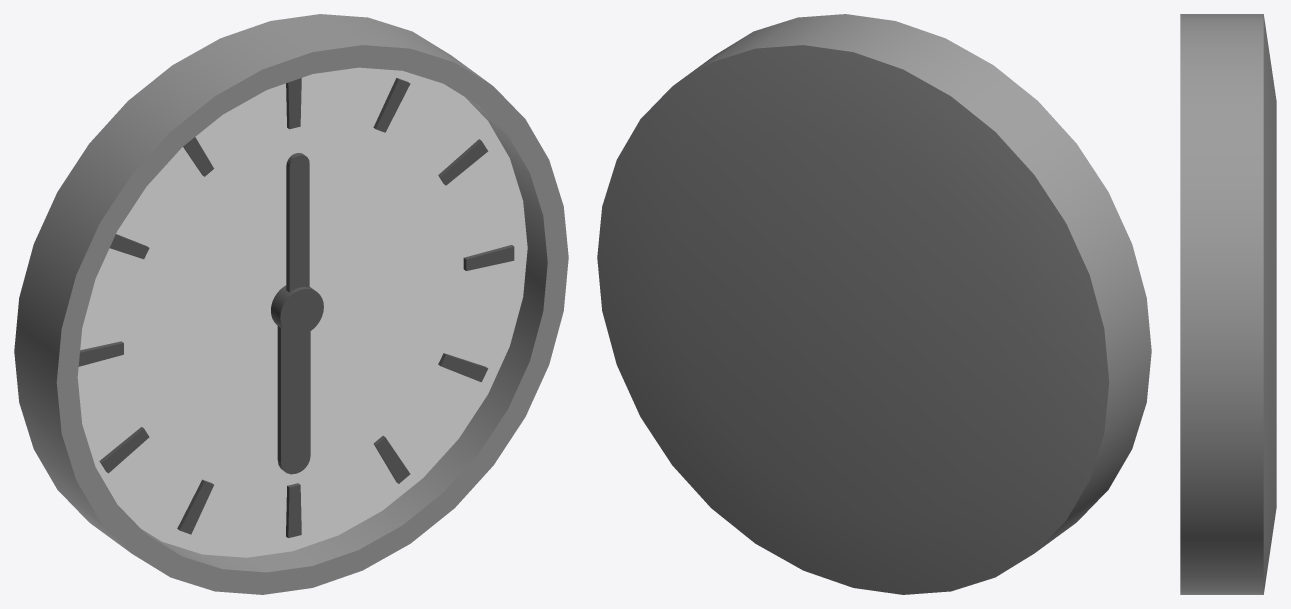
Rendered from six_oclock.glb.
3 views of the same model, side by side, from view 1: azimuth 30°, elevation 25°; view 2: azimuth 150°, elevation 25°; view 3: azimuth 270°, elevation 25° (orthographic).
Parts seen in each view (by area): view 1: Circle.2465, Circle.2466, Plane.274, Plane.275; view 2: Circle.2465; view 3: Circle.2465.
Boxes of the visible parts, x1,y1,x2,y2 form: Circle.2465: (14,14,568,594); Circle.2466: (78,78,514,537); Plane.274: (277,326,310,474); Plane.275: (286,153,309,292); Circle.2465: (597,14,1151,594); Circle.2465: (1180,14,1276,594).
Size of the model in its own units: 2.33 by 2.33 by 0.387.
Materials: 1 (1 with a texture image).
